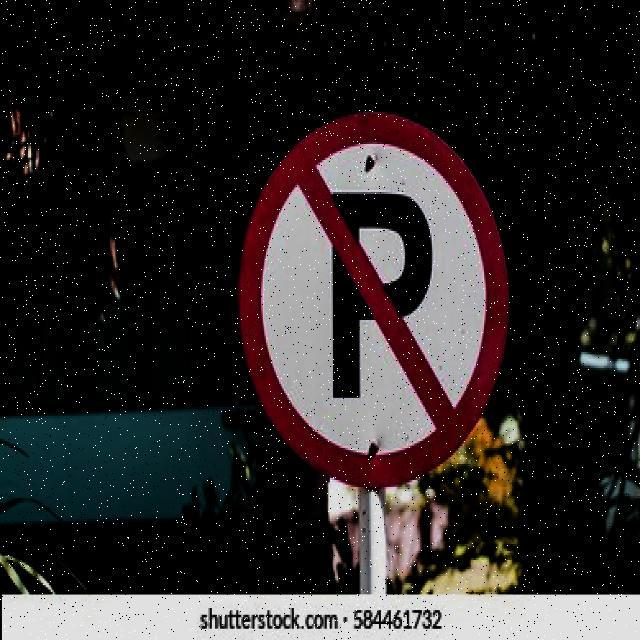Traffic sign: (231, 104, 514, 494)
